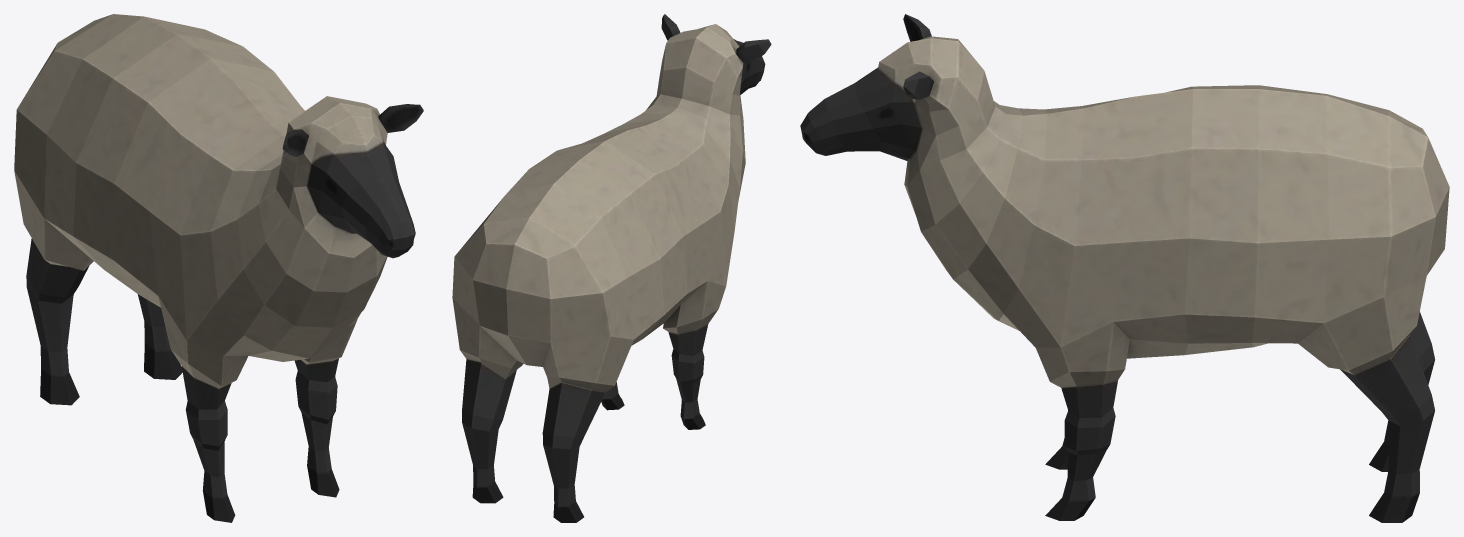
The model's file is sheep.glb.
3 renders of one model, left to right at view 1: azimuth 30°, elevation 25°; view 2: azimuth 150°, elevation 25°; view 3: azimuth 270°, elevation 25°, orthographic. The views are drawn at different scales.
Visible parts, largest first — view 1: Sheep_mesh; view 2: Sheep_mesh; view 3: Sheep_mesh.
Part boxes in pixels (x1=…): Sheep_mesh: x1=14, y1=14, x2=423, y2=522; Sheep_mesh: x1=452, y1=14, x2=771, y2=522; Sheep_mesh: x1=800, y1=14, x2=1449, y2=522.
Bounding box in the file's own units: 2.46 × 4.93 × 6.42.
1 material, 1 textured.
